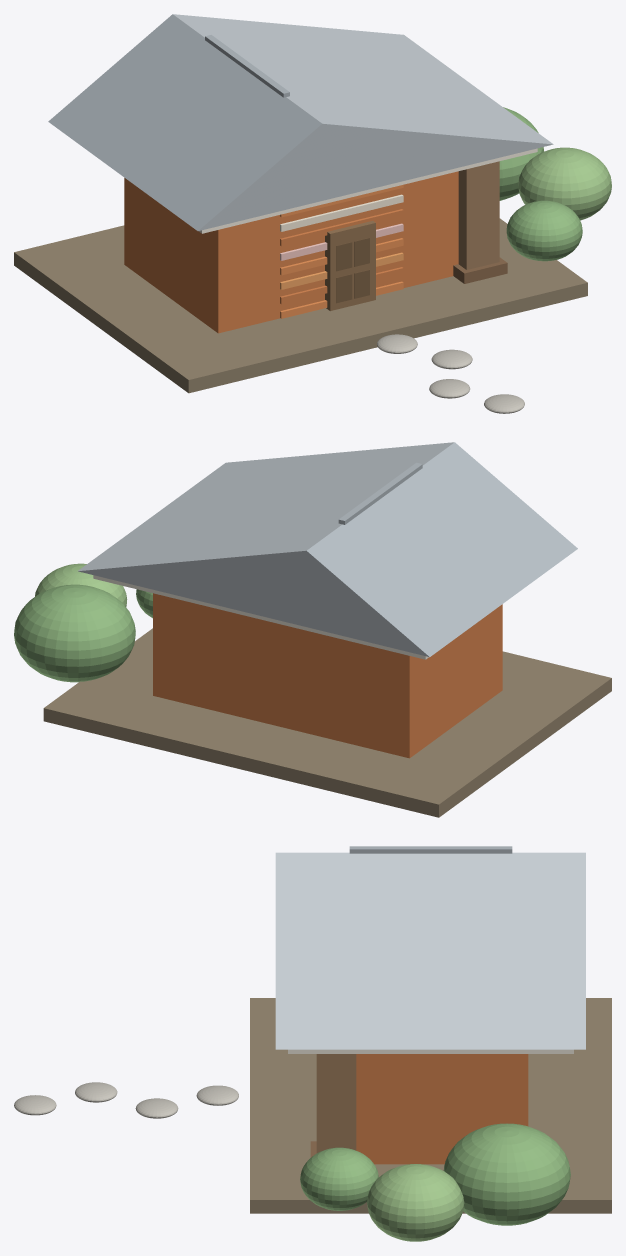
File: CasaCasilla69.glb
The picture shows the model from 3 angles, top to bottom: view 1: azimuth 30°, elevation 25°; view 2: azimuth 150°, elevation 25°; view 3: azimuth 270°, elevation 25°; orthographic projection. The views are drawn at different scales.
Parts seen in each view (by area): view 1: Casa2_Plataforma, Casa2_Techo_LadoChico, Casa2_ParedFondo, Casa2_Techo_LadoGrande, Casa2_Techo_GableFrente, Casa2_Arbusto.001, Casa2_ColumnaFuste, Casa2_Arbusto.002, Casa2_Puerta, Casa2_Alero, Casa2_Arbusto, Casa2_Tabla_6 (+12 smaller); view 2: Casa2_Plataforma, Casa2_ParedFondo, Casa2_Techo_LadoChico, Casa2_Techo_LadoGrande, Casa2_Techo_GableAtras, Casa2_Arbusto, Casa2_Alero, Casa2_Arbusto.001, Casa2_VigaCumbrera; view 3: Casa2_Techo_LadoGrande, Casa2_Plataforma, Casa2_ParedFondo, Casa2_Arbusto, Casa2_Arbusto.001, Casa2_ColumnaFuste, Casa2_Arbusto.002, Casa2_Alero, Casa2_VigaCumbrera, Casa2_Piedra_1, Casa2_Piedra_0, Casa2_Piedra_2 (+1 smaller).
Boxes of the visible parts, x1,y1,x2,y2 form: Casa2_Plataforma: (14,218,587,393); Casa2_Techo_LadoChico: (48,14,321,230); Casa2_ParedFondo: (124,171,458,333); Casa2_Techo_LadoGrande: (173,14,552,144); Casa2_Techo_GableFrente: (198,123,553,230); Casa2_Arbusto.001: (518,147,611,220); Casa2_ColumnaFuste: (458,161,499,269); Casa2_Arbusto.002: (506,200,582,261); Casa2_Puerta: (325,221,375,310); Casa2_Alero: (198,148,537,233); Casa2_Arbusto: (499,107,543,200); Casa2_Tabla_6: (280,194,403,231); Casa2_Plataforma: (43,628,611,817); Casa2_ParedFondo: (153,593,502,758); Casa2_Techo_LadoChico: (307,442,577,656); Casa2_Techo_LadoGrande: (78,442,453,570); Casa2_Techo_GableAtras: (78,550,428,656); Casa2_Arbusto: (14,584,135,682); Casa2_Alero: (93,575,428,659); Casa2_Arbusto.001: (35,563,127,607); Casa2_VigaCumbrera: (338,462,422,524); Casa2_Techo_LadoGrande: (275,852,585,1049); Casa2_Plataforma: (250,998,611,1213); Casa2_ParedFondo: (356,1054,528,1164); Casa2_Arbusto: (443,1123,570,1225); Casa2_Arbusto.001: (367,1164,464,1241); Casa2_ColumnaFuste: (316,1054,356,1152); Casa2_Arbusto.002: (300,1147,378,1210); Casa2_Alero: (288,1049,573,1053); Casa2_VigaCumbrera: (349,846,512,853); Casa2_Piedra_1: (135,1098,178,1118); Casa2_Piedra_0: (196,1085,238,1105); Casa2_Piedra_2: (75,1082,117,1102).
Bounding box in the file's own units: 3.91 × 1.72 × 3.93.
